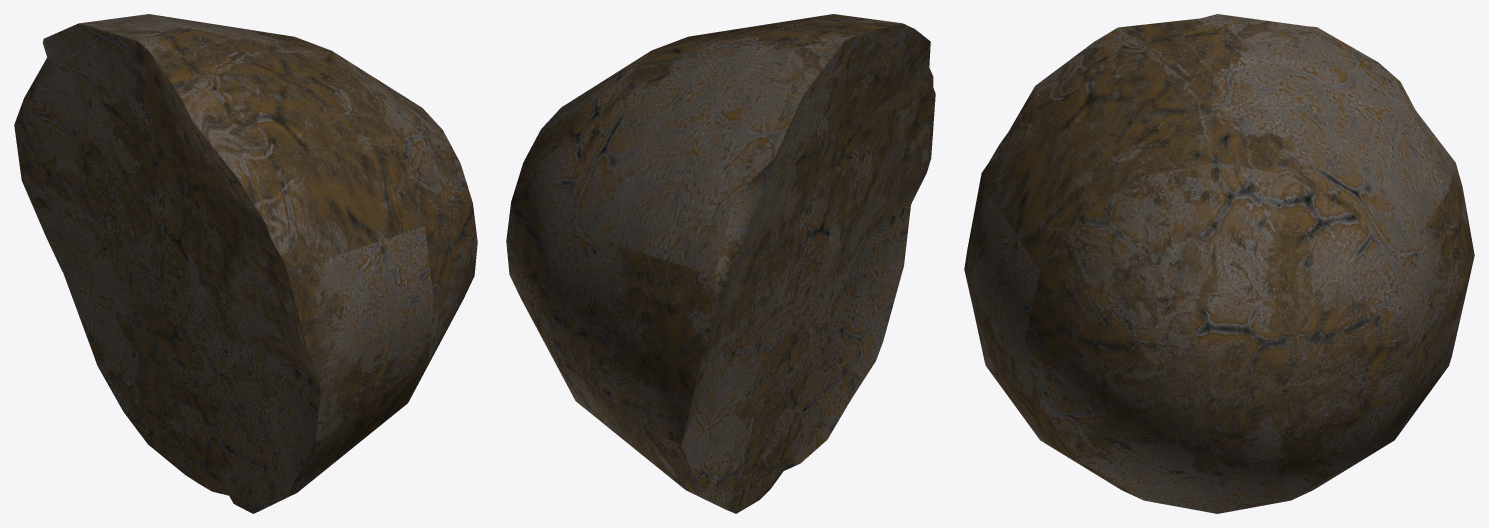
The model's file is RockShard16.fbx.
3 views of the same model, side by side, from view 1: azimuth 30°, elevation 25°; view 2: azimuth 150°, elevation 25°; view 3: azimuth 270°, elevation 25° (orthographic). The views are drawn at different scales.
Parts seen in each view (by area): view 1: RockShard16; view 2: RockShard16; view 3: RockShard16.
Part boxes in pixels (<box>): RockShard16: <box>14,14,477,513</box>; RockShard16: <box>506,14,935,513</box>; RockShard16: <box>964,14,1474,513</box>.
Bounding box in the file's own units: 48.28 × 65.53 × 66.13.
